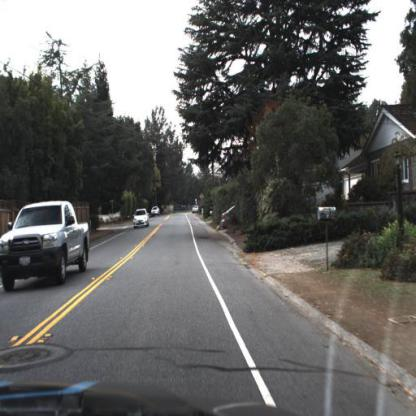car: (1, 202, 93, 293), (218, 206, 240, 228), (133, 209, 151, 230), (150, 204, 162, 217)
